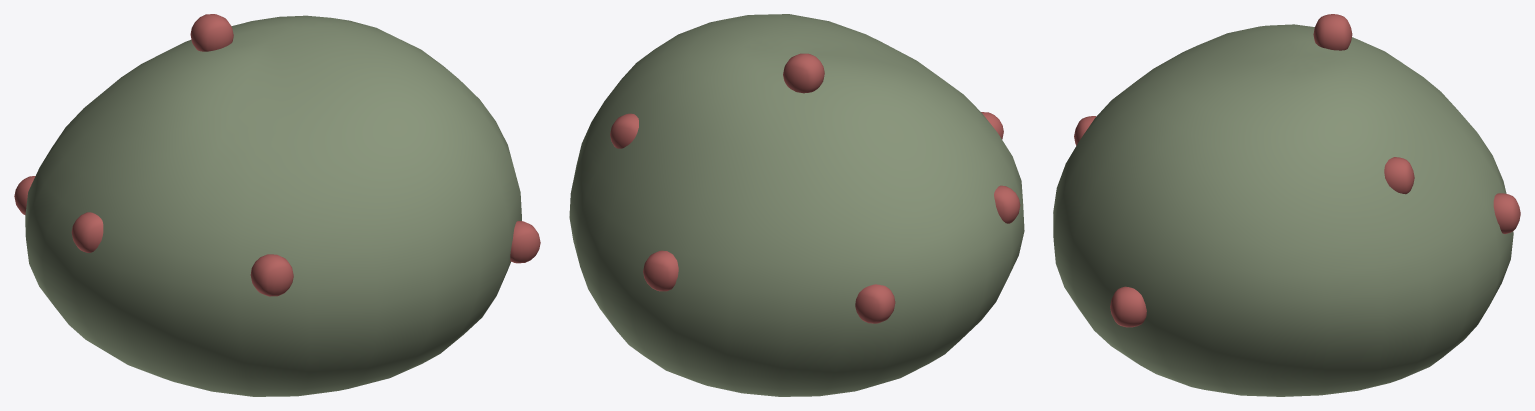
The model's file is BushSmall.fbx.
The picture shows the model from 3 angles, left to right: view 1: azimuth 30°, elevation 25°; view 2: azimuth 150°, elevation 25°; view 3: azimuth 270°, elevation 25°; orthographic projection. The views are drawn at different scales.
Parts seen in each view (by area): view 1: pSphere9; view 2: pSphere9; view 3: pSphere9.
Boxes of the visible parts, x1,y1,x2,y2 form: pSphere9: (14, 14, 540, 396); pSphere9: (569, 14, 1024, 396); pSphere9: (1053, 14, 1520, 396).
Size of the model in its own units: 1.95 by 1.41 by 1.9.
